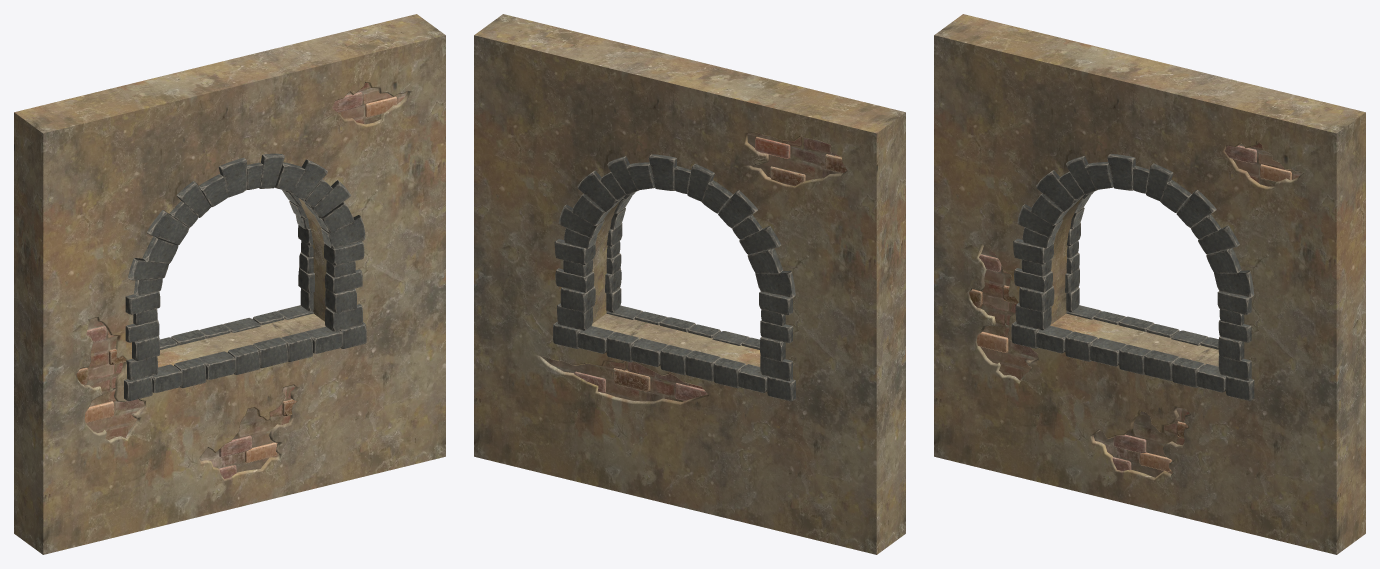
3 renders of one model, left to right at view 1: azimuth 30°, elevation 25°; view 2: azimuth 150°, elevation 25°; view 3: azimuth 330°, elevation 25°, orthographic.
Parts seen in each view (by area): view 1: SM_Human_Ruins_Window_03v2_LOD0; view 2: SM_Human_Ruins_Window_03v2_LOD0; view 3: SM_Human_Ruins_Window_03v2_LOD0.
Boxes of the visible parts, box(x1,y1,x2,y2) form: SM_Human_Ruins_Window_03v2_LOD0: box(14, 14, 445, 554); SM_Human_Ruins_Window_03v2_LOD0: box(474, 14, 905, 554); SM_Human_Ruins_Window_03v2_LOD0: box(934, 14, 1365, 554).
Bounding box in the file's own units: 4 × 4 × 0.6674.
Materials: 4 (4 with a texture image).
